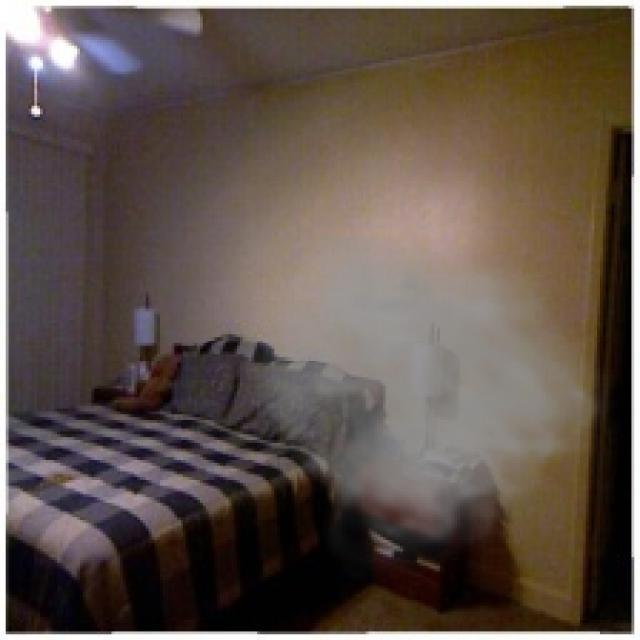Smoke: (228, 237, 620, 583)
